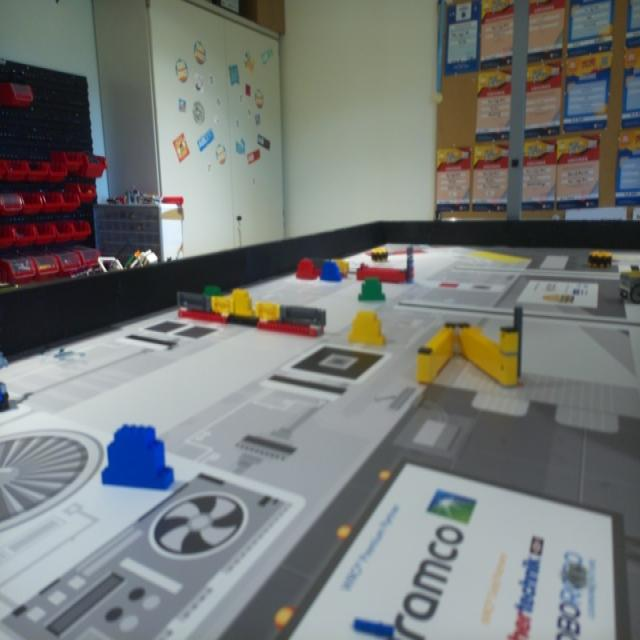blau: (99, 422, 177, 492), (320, 261, 343, 283)
gruen: (358, 276, 386, 304), (202, 287, 222, 296)
rot: (296, 258, 317, 280)
yellow: (349, 310, 385, 349), (228, 290, 252, 315)
